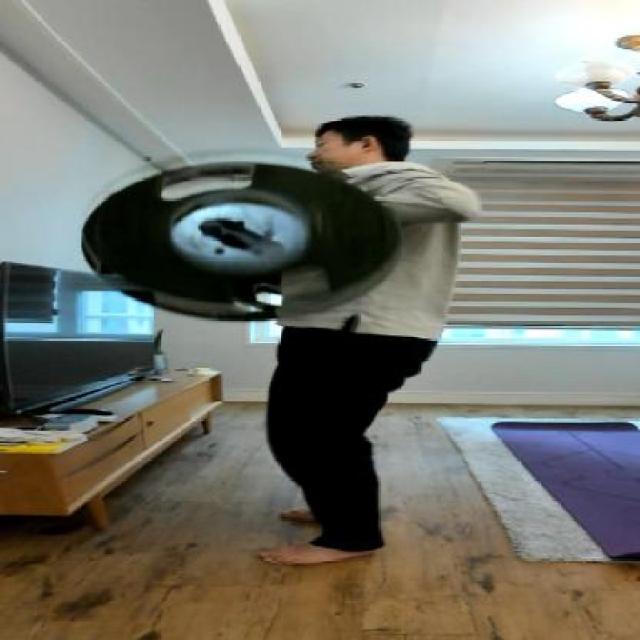barbell: (76, 149, 422, 330)
